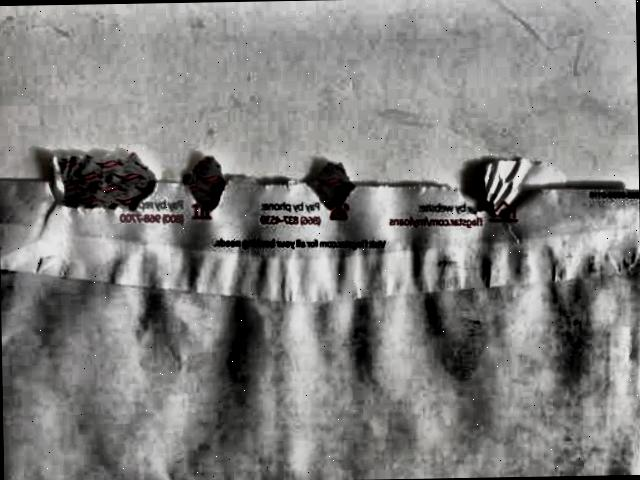Paper: (0, 81, 640, 480)
